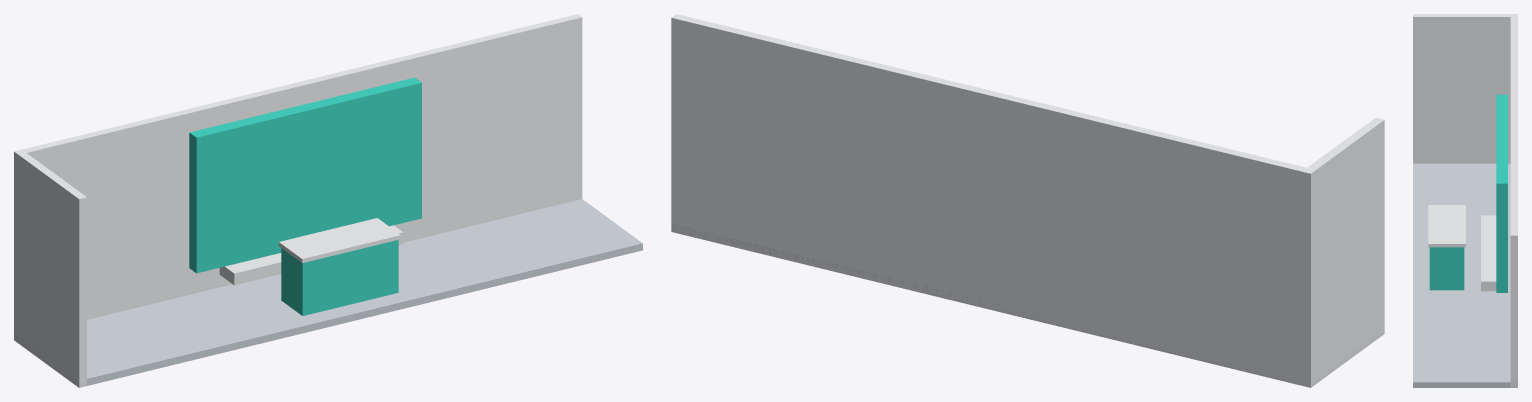
The picture shows the model from 3 angles, left to right: view 1: azimuth 30°, elevation 25°; view 2: azimuth 150°, elevation 25°; view 3: azimuth 270°, elevation 25°; orthographic projection. The views are drawn at different scales.
Visible parts, largest first — view 1: Exhibition Booth Concept; view 2: Exhibition Booth Concept; view 3: Exhibition Booth Concept.
Part boxes in pixels (x1,y1,x2,y2): Exhibition Booth Concept: [14, 14, 642, 387]; Exhibition Booth Concept: [671, 14, 1384, 387]; Exhibition Booth Concept: [1413, 14, 1517, 387].
Size of the model in its own units: 10 by 3.2 by 2.
